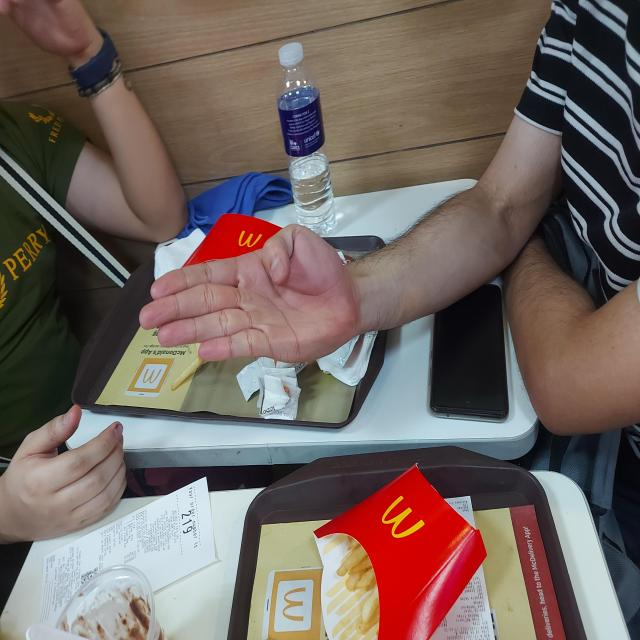B: (271, 136, 421, 357)
